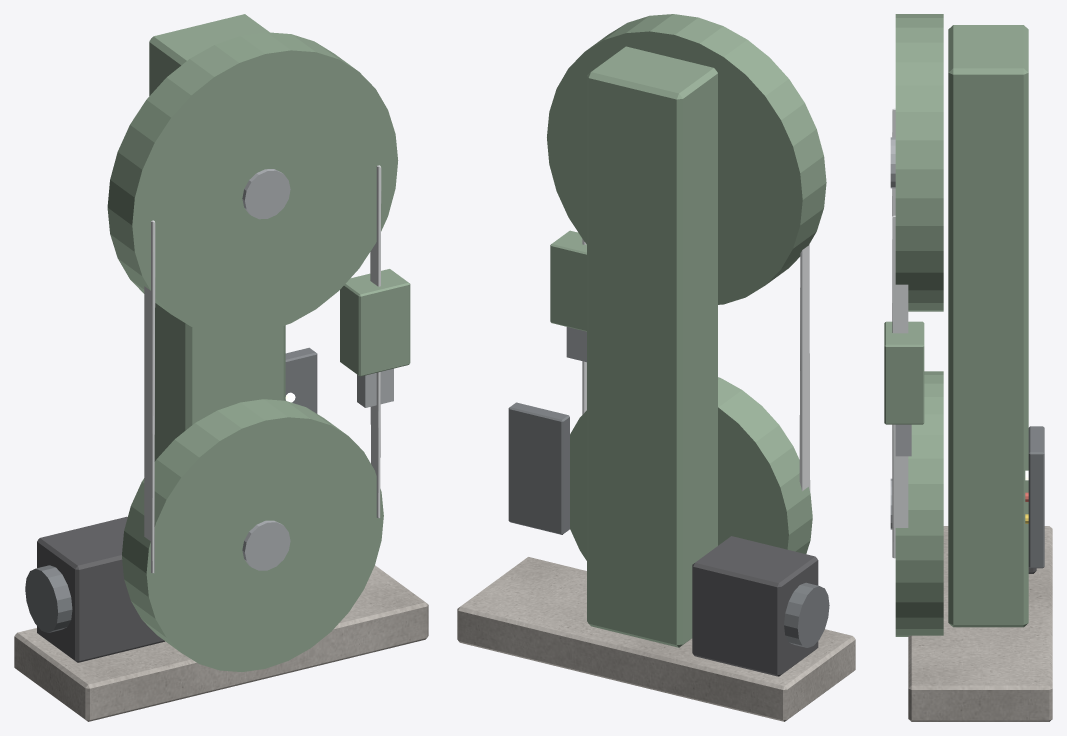
The model's file is band_saw.glb.
The picture shows the model from 3 angles, left to right: view 1: azimuth 30°, elevation 25°; view 2: azimuth 150°, elevation 25°; view 3: azimuth 270°, elevation 25°; orthographic projection. The views are drawn at different scales.
Visible parts, largest first — view 1: band_saw_tank_g, band_saw_concrete, band_saw_dark, band_saw_chrome, band_saw_steel, band_saw_steel_d; view 2: band_saw_tank_g, band_saw_concrete, band_saw_dark, band_saw_steel_d, band_saw_chrome, band_saw_steel; view 3: band_saw_tank_g, band_saw_concrete, band_saw_chrome, band_saw_steel_d, band_saw_steel.
Boxes of the visible parts, box(x1,y1,x2,y2) form: band_saw_tank_g: box(107, 14, 410, 671); band_saw_concrete: box(14, 565, 428, 721); band_saw_dark: box(37, 516, 164, 662); band_saw_chrome: box(144, 165, 381, 573); band_saw_steel: box(242, 169, 393, 570); band_saw_steel_d: box(25, 347, 317, 632); band_saw_tank_g: box(547, 14, 826, 647); band_saw_concrete: box(457, 557, 855, 721); band_saw_dark: box(692, 536, 818, 676); band_saw_steel_d: box(508, 402, 829, 647); band_saw_chrome: box(582, 239, 810, 491); band_saw_steel: box(566, 327, 586, 362); band_saw_tank_g: box(884, 14, 1028, 636); band_saw_concrete: box(908, 526, 1052, 721); band_saw_chrome: box(892, 108, 908, 558); band_saw_steel_d: box(1028, 426, 1044, 568); band_saw_steel: box(890, 137, 911, 529).
Bounding box in the file's own units: 2.4 × 4.23 × 1.05.
Materials: 9 (1 with a texture image).
